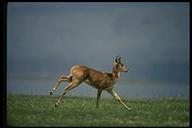antelope: (49, 54, 132, 112)
grass: (135, 100, 188, 126), (10, 96, 47, 126)
